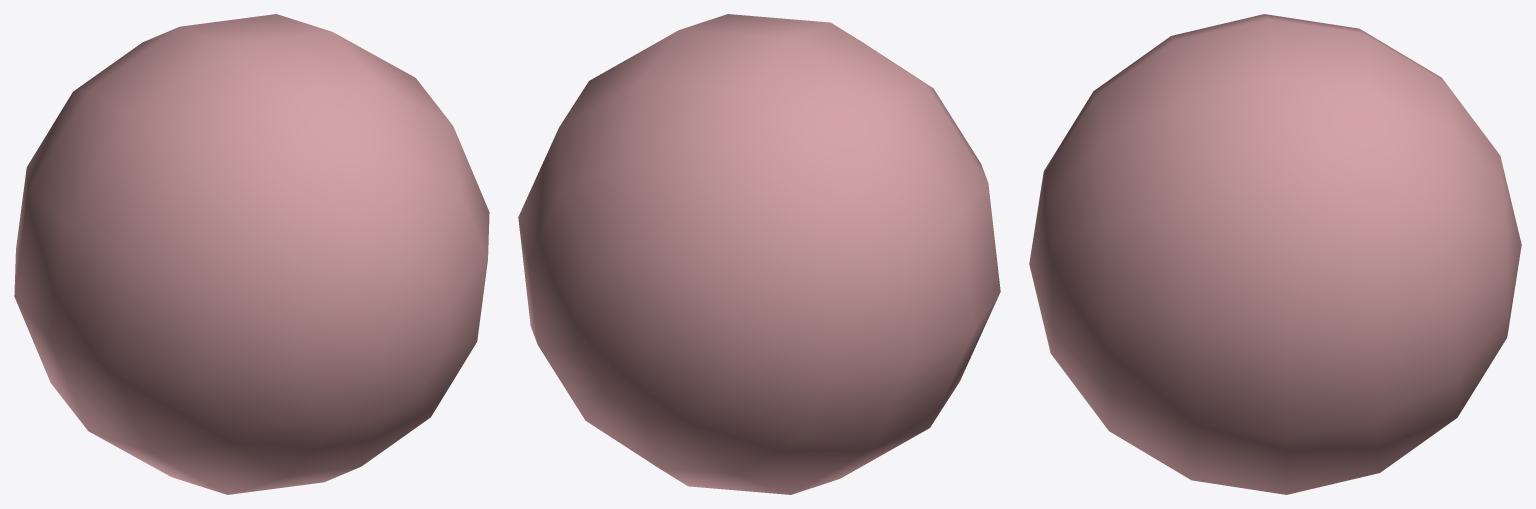
The picture shows the model from 3 angles, left to right: view 1: azimuth 30°, elevation 25°; view 2: azimuth 150°, elevation 25°; view 3: azimuth 270°, elevation 25°; orthographic projection.
Visible parts, largest first — view 1: ZA_365c258f6dba8500; view 2: ZA_365c258f6dba8500; view 3: ZA_365c258f6dba8500.
Boxes of the visible parts, bbox=[...] form: ZA_365c258f6dba8500: bbox=[14, 14, 489, 494]; ZA_365c258f6dba8500: bbox=[518, 14, 1000, 494]; ZA_365c258f6dba8500: bbox=[1029, 14, 1521, 494].
Size of the model in its own units: 0.00258 by 0.00258 by 0.0026.
